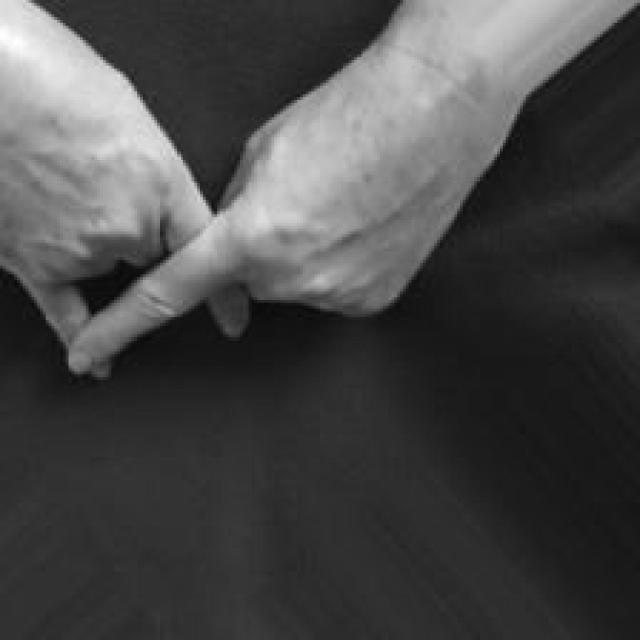H: (0, 0, 532, 393)
